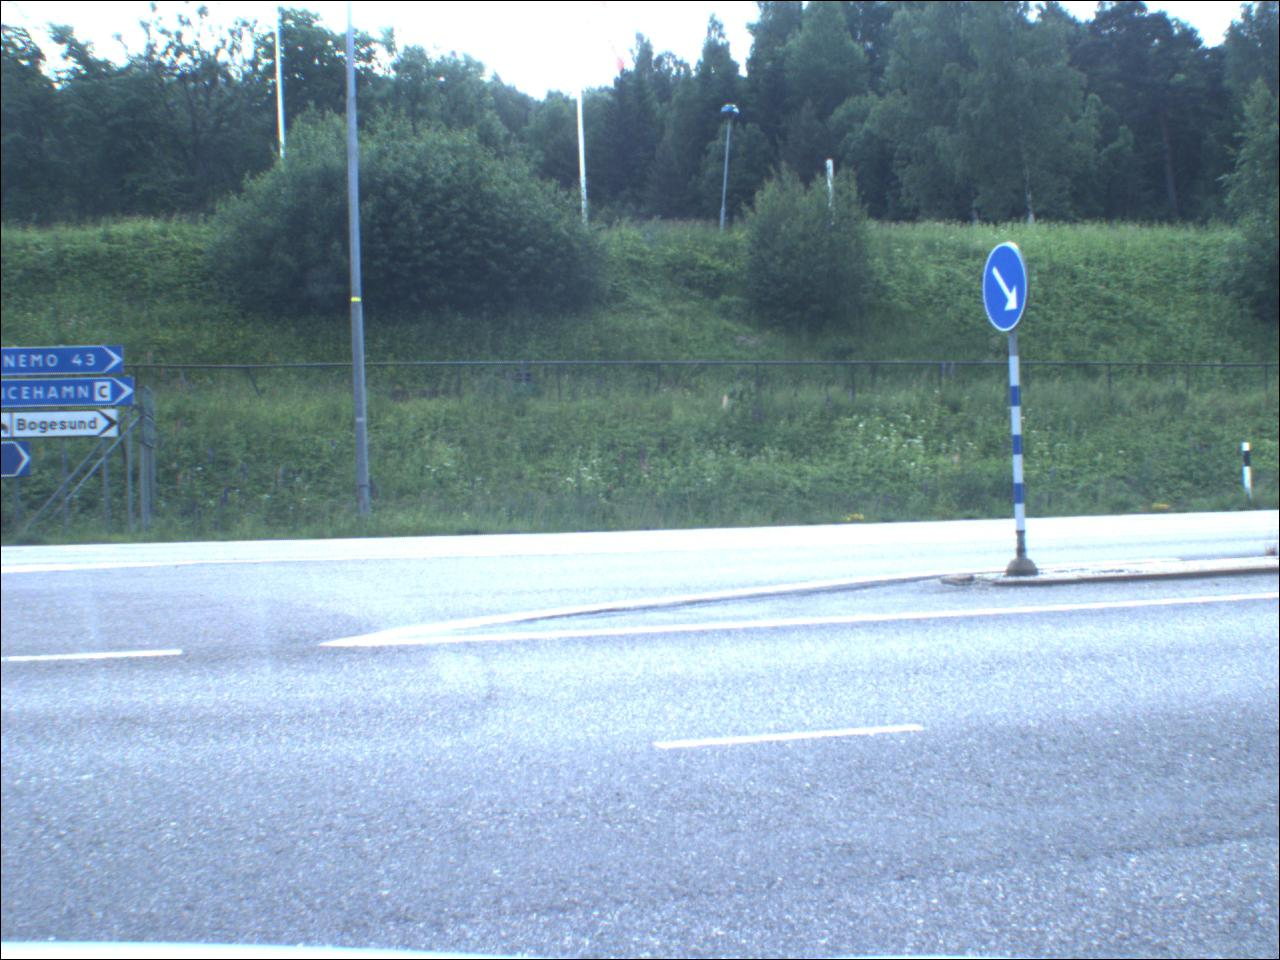PASS_RIGHT_SIDE: (983, 242, 1037, 340)
